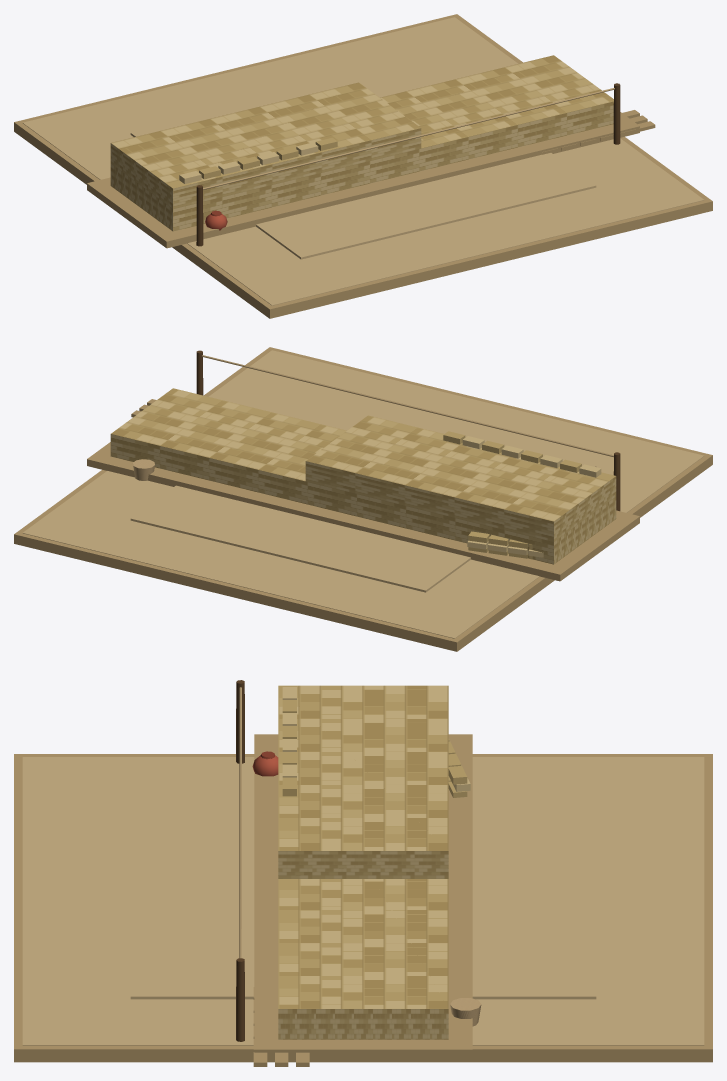
File: exp-1-construction.glb
3 views of the same model, one above another, from view 1: azimuth 30°, elevation 25°; view 2: azimuth 150°, elevation 25°; view 3: azimuth 270°, elevation 25° (orthographic). The views are drawn at different scales.
Size of the model in its own units: 22.59 by 3.03 by 20.5.
Materials: 13 (3 with a texture image).
